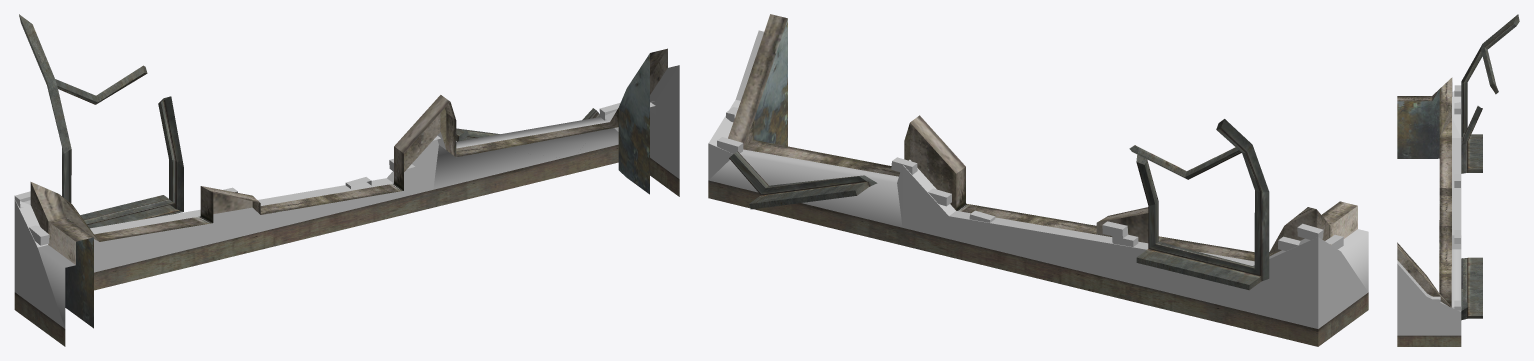
File: Store_front_8_F.fbx
3 renders of one model, left to right at view 1: azimuth 30°, elevation 25°; view 2: azimuth 150°, elevation 25°; view 3: azimuth 270°, elevation 25°, orthographic. The views are drawn at different scales.
Visible parts, largest first — view 1: Store_front_8_F; view 2: Store_front_8_F; view 3: Store_front_8_F.
Boxes of the visible parts, x1=… form: Store_front_8_F: x1=14, y1=14, x2=679, y2=346; Store_front_8_F: x1=708, y1=14, x2=1368, y2=346; Store_front_8_F: x1=1397, y1=14, x2=1519, y2=346.
Bounding box in the file's own units: 700 × 273 × 191.
